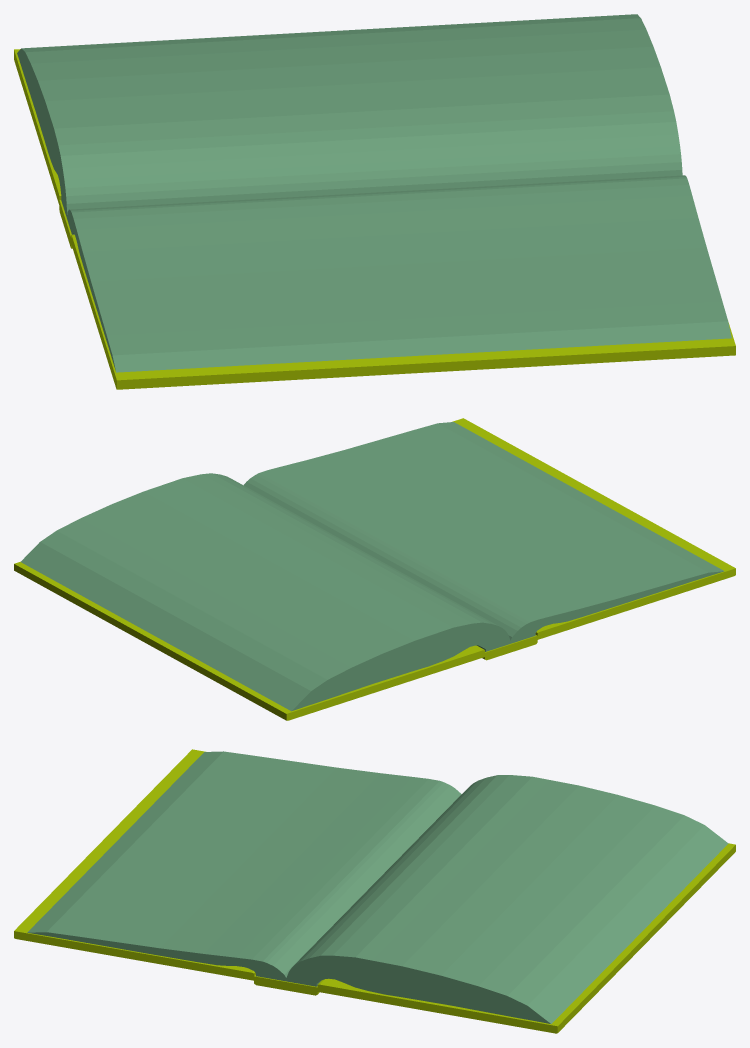
File: DeskTextbook.fbx
3 renders of one model, top to bottom at view 1: azimuth 30°, elevation 25°; view 2: azimuth 150°, elevation 25°; view 3: azimuth 270°, elevation 25°, orthographic. The views are drawn at different scales.
Parts seen in each view (by area): view 1: OpenBook; view 2: OpenBook; view 3: OpenBook.
Part boxes in pixels (x1,y1,x2,y2): OpenBook: [14, 14, 735, 389]; OpenBook: [14, 418, 735, 720]; OpenBook: [14, 749, 735, 1033].
Bounding box in the file's own units: 366 × 27.5 × 403.
